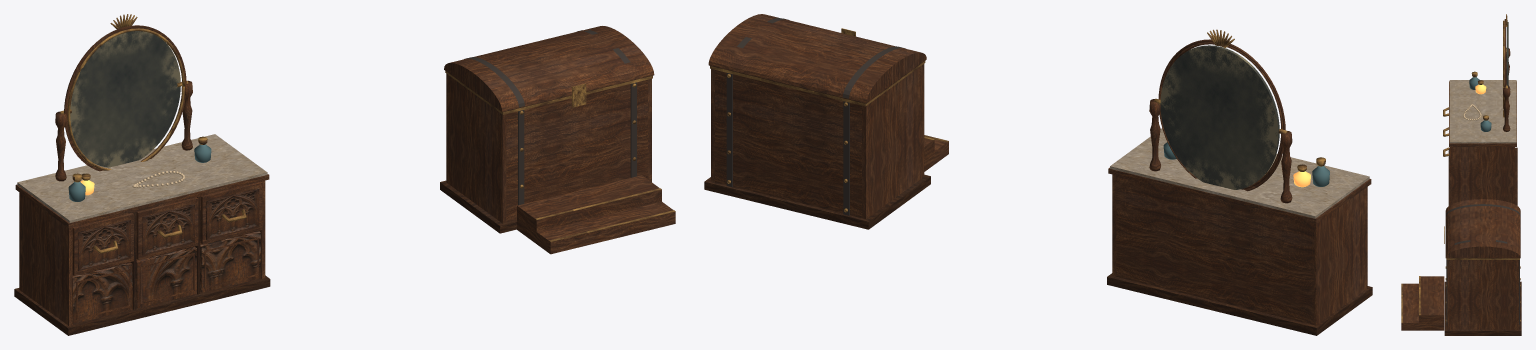
Rendered from Camarim.glb.
3 views of the same model, side by side, from view 1: azimuth 30°, elevation 25°; view 2: azimuth 150°, elevation 25°; view 3: azimuth 270°, elevation 25° (orthographic). The views are drawn at different scales.
Visible parts, largest first — view 1: Bau_de_figurinos__Nogueira, Espelho__Mercurio, Abre_BauFigurinos_Tampa__Nogueira, Penteadeira__Calcario, Penteadeira__Nogueira, Penteadeira__Talha, Estrado__Nogueira, SocleToilette__Ebanizada, Espelho__Nogueira, Abre_Penteadeira_Gaveta3__Talha, Abre_Penteadeira_Gaveta2__Talha, Abre_Penteadeira_Gaveta1__Talha (+11 smaller); view 2: Penteadeira__Nogueira, Bau_de_figurinos__Nogueira, Espelho__Mercurio, Abre_BauFigurinos_Tampa__Nogueira, Penteadeira__Calcario, SocleToilette__Ebanizada, Espelho__Nogueira, SocleMalle__Ebanizada, Bau_de_figurinos__Ferro, Bau_de_figurinos__Latao, Abre_BauFigurinos_Tampa__Ferro, Estrado__Nogueira; view 3: Bau_de_figurinos__Nogueira, Abre_BauFigurinos_Tampa__Nogueira, Penteadeira__Nogueira, Penteadeira__Calcario, Estrado__Nogueira, SocleMalle__Ebanizada, Espelho__Nogueira, SocleToilette__Ebanizada, Abre_BauFigurinos_Tampa__Ferro, Objetos_de_camarim__Ceramica, Espelho__Latao, Bau_de_figurinos__Ferro (+3 smaller).
Boxes of the visible parts, bbox=[...] form: Bau_de_figurinos__Nogueira: bbox=[446, 74, 651, 223]; Espelho__Mercurio: bbox=[70, 31, 180, 167]; Abre_BauFigurinos_Tampa__Nogueira: bbox=[444, 26, 654, 111]; Penteadeira__Calcario: bbox=[17, 134, 267, 222]; Penteadeira__Nogueira: bbox=[15, 174, 269, 325]; Penteadeira__Talha: bbox=[72, 231, 260, 323]; Estrado__Nogueira: bbox=[517, 175, 675, 254]; SocleToilette__Ebanizada: bbox=[14, 275, 270, 335]; Espelho__Nogueira: bbox=[55, 25, 192, 181]; Abre_Penteadeira_Gaveta3__Talha: bbox=[206, 188, 259, 239]; Abre_Penteadeira_Gaveta2__Talha: bbox=[142, 204, 194, 255]; Abre_Penteadeira_Gaveta1__Talha: bbox=[78, 219, 130, 271]; Penteadeira__Nogueira: bbox=[1108, 167, 1371, 325]; Bau_de_figurinos__Nogueira: bbox=[711, 64, 924, 218]; Espelho__Mercurio: bbox=[1160, 45, 1279, 189]; Abre_BauFigurinos_Tampa__Nogueira: bbox=[708, 14, 926, 103]; Penteadeira__Calcario: bbox=[1110, 128, 1369, 218]; SocleToilette__Ebanizada: bbox=[1107, 273, 1372, 335]; Espelho__Nogueira: bbox=[1149, 39, 1292, 203]; SocleMalle__Ebanizada: bbox=[704, 174, 930, 229]; Bau_de_figurinos__Ferro: bbox=[726, 73, 849, 215]; Bau_de_figurinos__Latao: bbox=[710, 61, 925, 212]; Abre_BauFigurinos_Tampa__Ferro: bbox=[737, 18, 905, 98]; Estrado__Nogueira: bbox=[924, 138, 948, 171]; Bau_de_figurinos__Nogueira: bbox=[1447, 260, 1518, 329]; Abre_BauFigurinos_Tampa__Nogueira: bbox=[1445, 199, 1520, 258]; Penteadeira__Nogueira: bbox=[1449, 81, 1516, 204]; Penteadeira__Calcario: bbox=[1449, 80, 1516, 143]; Estrado__Nogueira: bbox=[1401, 276, 1444, 330]; SocleMalle__Ebanizada: bbox=[1444, 281, 1521, 335]; Espelho__Nogueira: bbox=[1503, 19, 1510, 131]; SocleToilette__Ebanizada: bbox=[1448, 147, 1517, 205]; Abre_BauFigurinos_Tampa__Ferro: bbox=[1445, 204, 1520, 244]; Objetos_de_camarim__Ceramica: bbox=[1469, 77, 1491, 131]; Espelho__Latao: bbox=[1503, 14, 1507, 117]; Bau_de_figurinos__Ferro: bbox=[1446, 260, 1519, 324].
Size of the model in its own units: 27.42 by 11.76 by 7.6.
11 materials, 11 textured.
